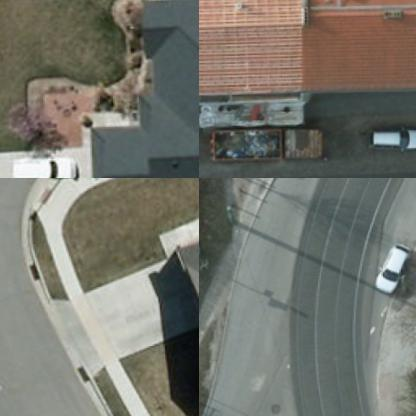car: (375, 248, 408, 299), (7, 155, 81, 177), (361, 127, 415, 157)
